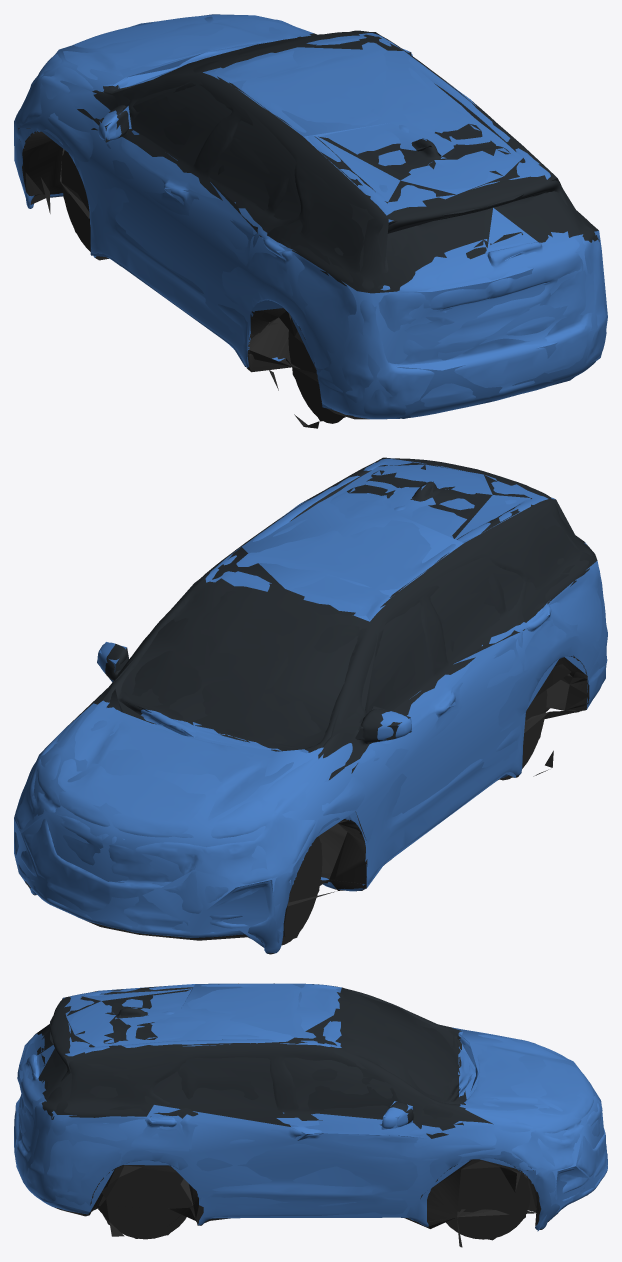
Rendered from chevrolet-equinox.glb.
The picture shows the model from 3 angles, top to bottom: view 1: azimuth 30°, elevation 25°; view 2: azimuth 150°, elevation 25°; view 3: azimuth 270°, elevation 25°; orthographic projection. The views are drawn at different scales.
Parts seen in each view (by area): view 1: body, far; view 2: body, far; view 3: body, far.
Boxes of the visible parts, x1,y1,x2,y2 form: body: (14, 15, 606, 428); far: (14, 14, 607, 421); body: (14, 458, 607, 954); far: (14, 457, 606, 947); body: (14, 983, 607, 1247); far: (14, 983, 607, 1240).
Bounding box in the file's own units: 2.13 × 1.73 × 4.72.
